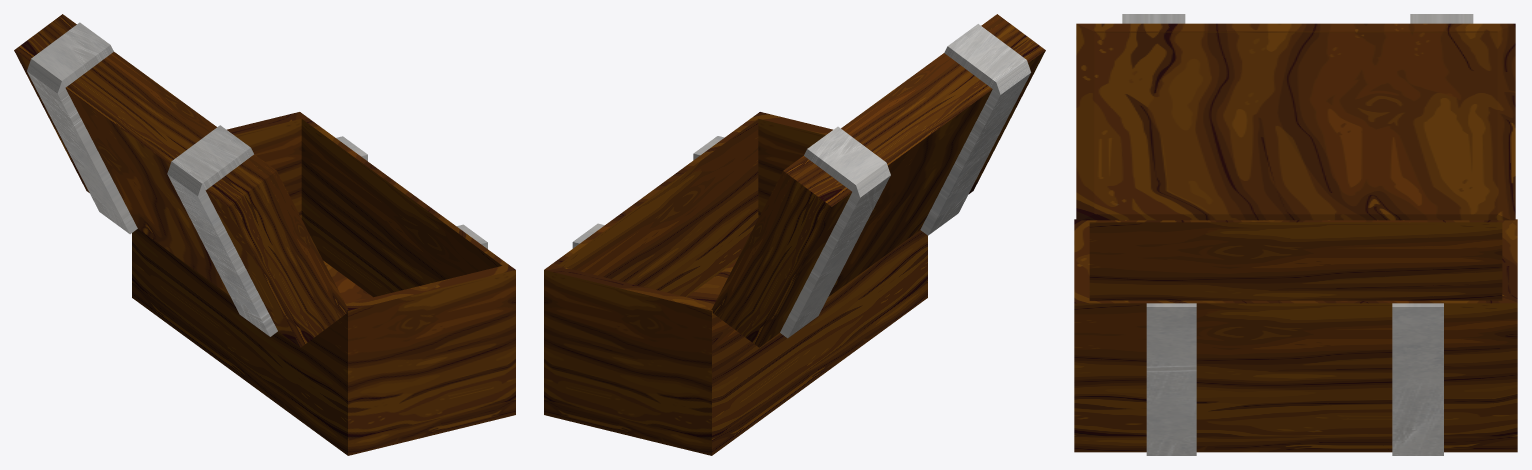
The model's file is chest_empty.glb.
3 views of the same model, side by side, from view 1: azimuth 30°, elevation 25°; view 2: azimuth 150°, elevation 25°; view 3: azimuth 270°, elevation 25° (orthographic). The views are drawn at different scales.
Visible parts, largest first — view 1: dol, wieko, metal; view 2: dol, wieko, metal; view 3: dol, wieko, metal.
Part boxes in pixels (box(x1,y1,x2,y2)): dol: box(132, 112, 515, 455); wieko: box(14, 14, 348, 347); metal: box(27, 22, 487, 336); dol: box(544, 112, 927, 455); wieko: box(711, 14, 1045, 347); metal: box(572, 24, 1030, 338); dol: box(1074, 219, 1517, 452); wieko: box(1076, 23, 1515, 220); metal: box(1122, 14, 1473, 455).
Bounding box in the file's own units: 3.6 × 3.52 × 4.46.
2 materials, 2 textured.
